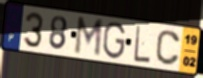3: (23, 11, 45, 49)
8: (48, 15, 68, 51)
C: (154, 29, 181, 68)
G: (102, 21, 127, 61)
L: (133, 24, 151, 65)
M: (72, 16, 105, 60)
